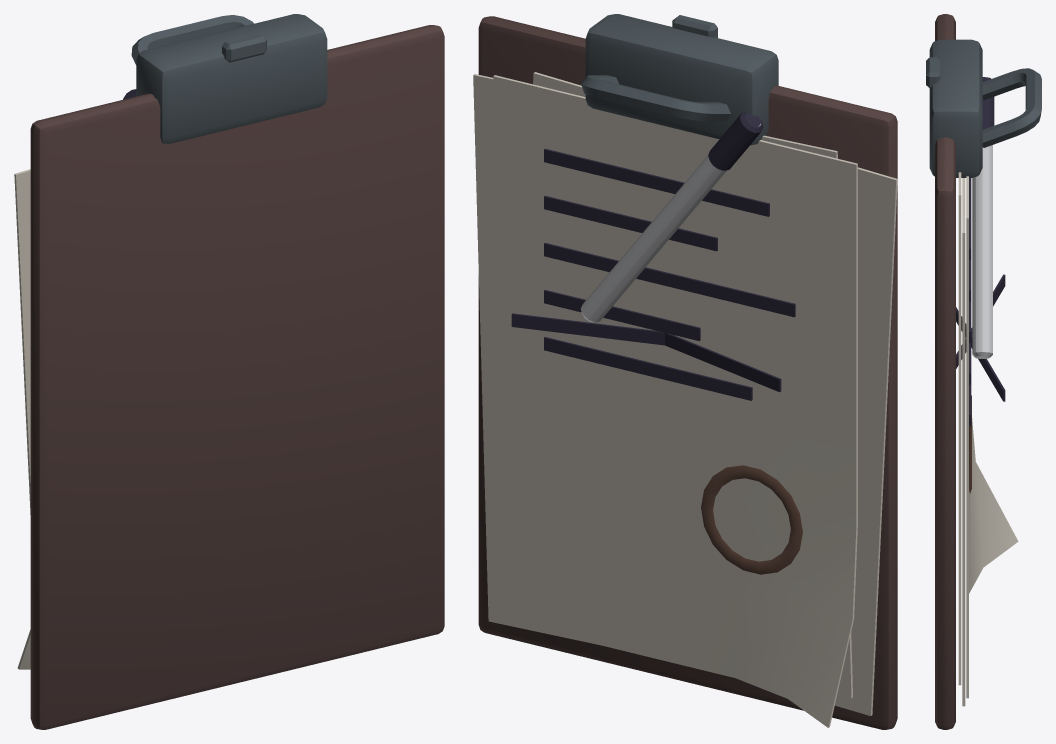
File: clipboard.glb
3 renders of one model, left to right at view 1: azimuth 30°, elevation 25°; view 2: azimuth 150°, elevation 25°; view 3: azimuth 270°, elevation 25°, orthographic. The views are drawn at different scales.
Visible parts, largest first — view 1: clipboard; view 2: clipboard; view 3: clipboard.
Part boxes in pixels (<box>): clipboard: <box>14,14,444,729</box>; clipboard: <box>473,14,897,729</box>; clipboard: <box>926,14,1041,729</box>.
Size of the model in its own units: 0.2455 by 0.362 by 0.0656.
